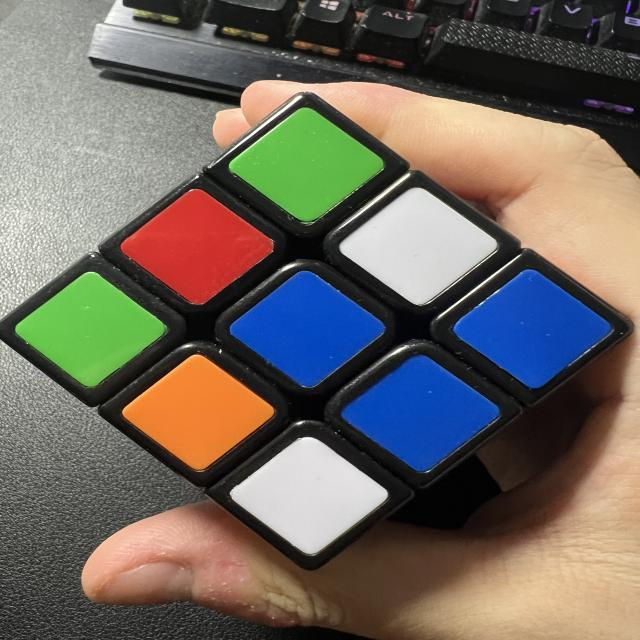blue: (450, 249, 615, 407), (339, 334, 504, 491), (226, 254, 387, 407)
center: (226, 251, 388, 407)
green: (225, 89, 388, 244), (12, 254, 167, 402)
orange: (119, 335, 277, 489)
red: (116, 170, 278, 325)
white: (335, 164, 505, 327), (226, 415, 391, 574)
